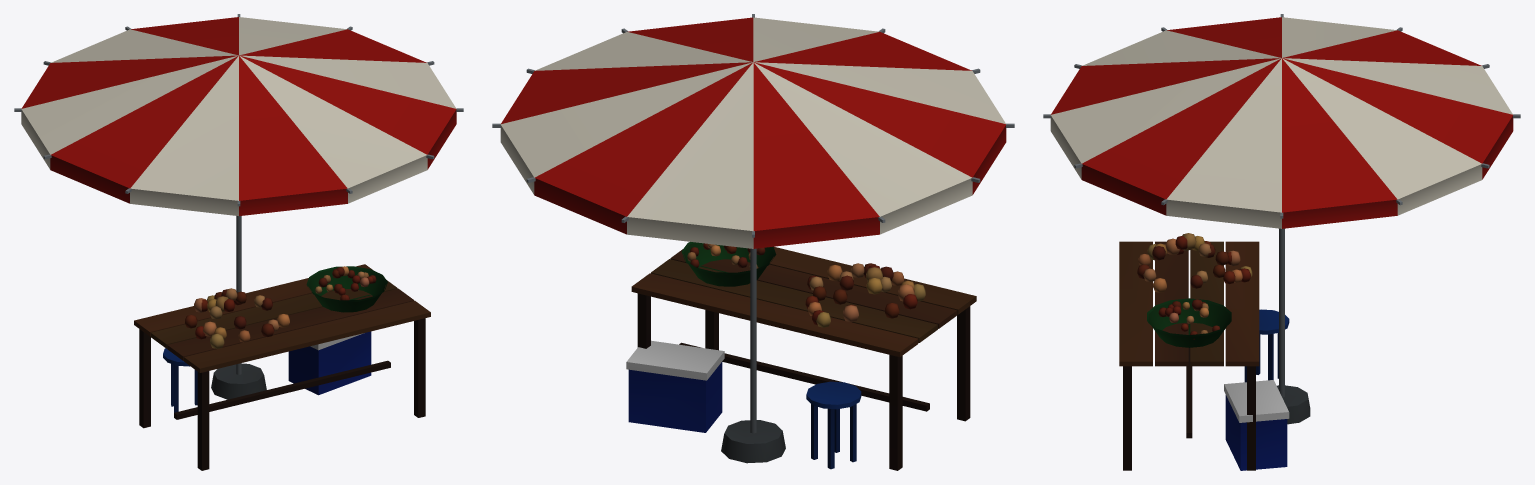
Rendered from mk_stall_umbrella.glb.
3 renders of one model, left to right at view 1: azimuth 30°, elevation 25°; view 2: azimuth 150°, elevation 25°; view 3: azimuth 270°, elevation 25°, orthographic. The views are drawn at different scales.
Parts seen in each view (by area): view 1: mk_stall_umbrella; view 2: mk_stall_umbrella; view 3: mk_stall_umbrella.
Boxes of the visible parts, x1,y1,x2,y2 form: mk_stall_umbrella: (14,14,463,470); mk_stall_umbrella: (492,14,1014,470); mk_stall_umbrella: (1043,14,1520,470).
Bounding box in the file's own units: 3.2 × 2.62 × 3.2.
